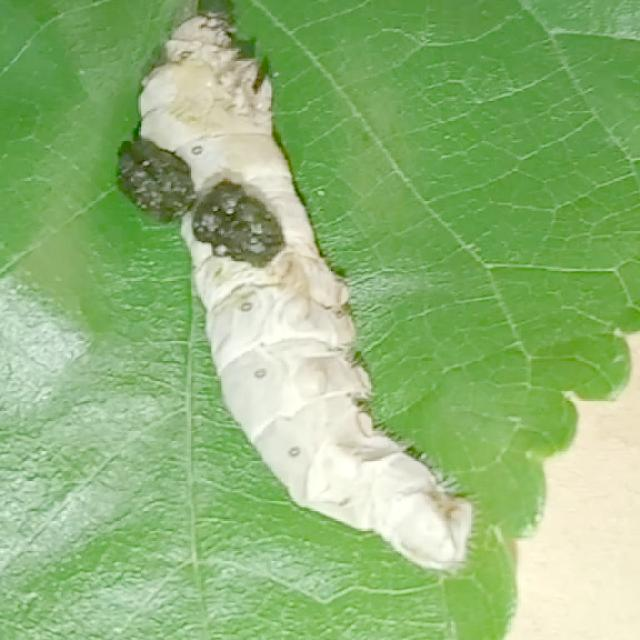Grasserie: (97, 0, 510, 582)
